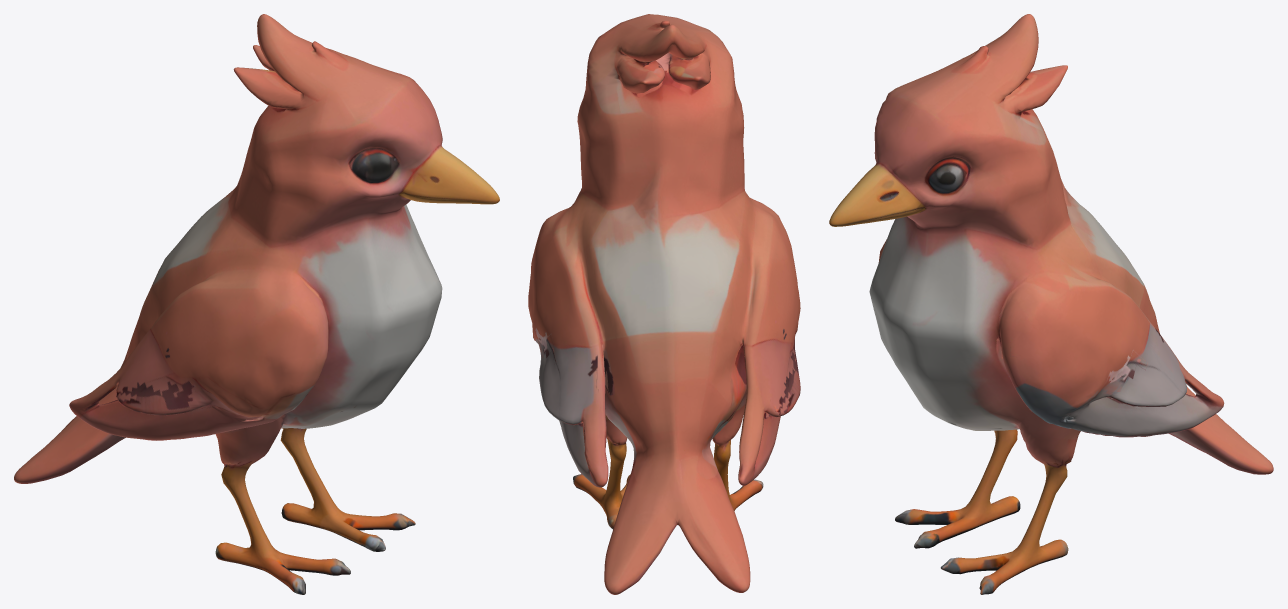
The model's file is Bird.fbx.
3 renders of one model, left to right at view 1: azimuth 30°, elevation 25°; view 2: azimuth 150°, elevation 25°; view 3: azimuth 270°, elevation 25°, orthographic. The views are drawn at different scales.
Parts seen in each view (by area): view 1: tripo_node_f3de1c78; view 2: tripo_node_f3de1c78; view 3: tripo_node_f3de1c78.
Boxes of the visible parts, box(x1,y1,x2,y2) form: tripo_node_f3de1c78: box(14, 14, 499, 594); tripo_node_f3de1c78: box(528, 14, 800, 594); tripo_node_f3de1c78: box(829, 14, 1273, 594).
Bounding box in the file's own units: 56.86 × 93.32 × 71.89.
Materials: 1 (1 with a texture image).
